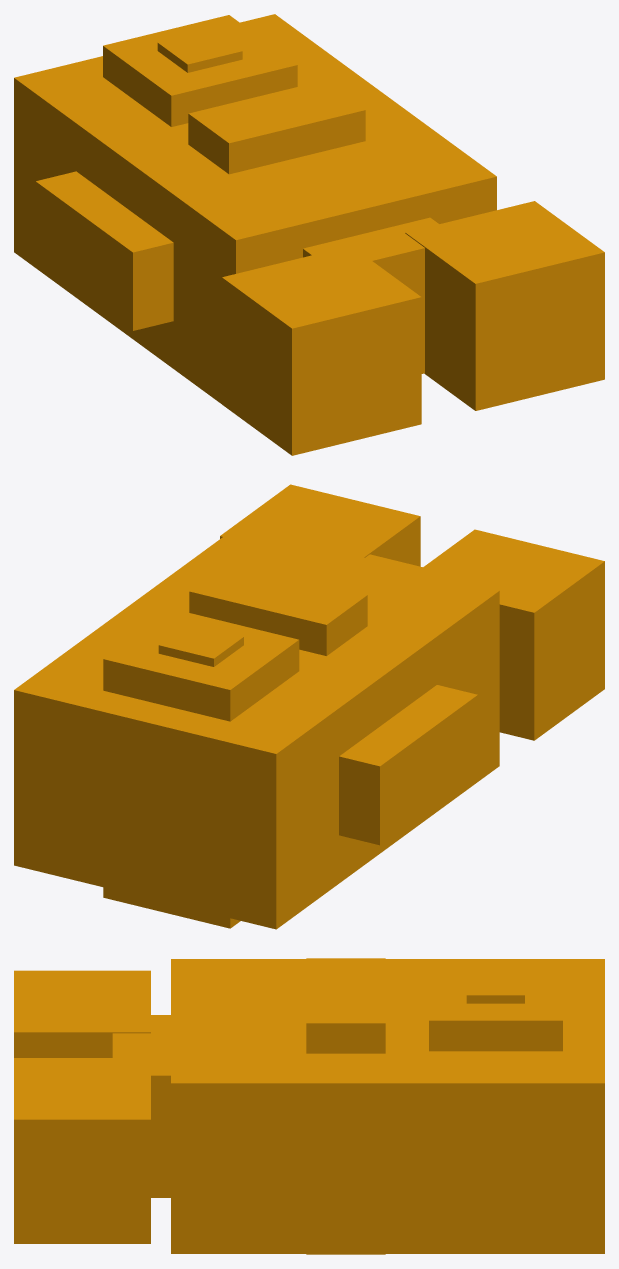
File: pes solito.fbx
3 views of the same model, one above another, from view 1: azimuth 30°, elevation 25°; view 2: azimuth 150°, elevation 25°; view 3: azimuth 270°, elevation 25° (orthographic). The views are drawn at different scales.
Visible parts, largest first — view 1: pes; view 2: pes; view 3: pes.
Boxes of the visible parts, bbox=[...] form: pes: bbox=[14, 14, 604, 455]; pes: bbox=[14, 484, 604, 929]; pes: bbox=[14, 958, 604, 1254].
Size of the model in its own units: 30.84 by 22.74 by 49.06.
